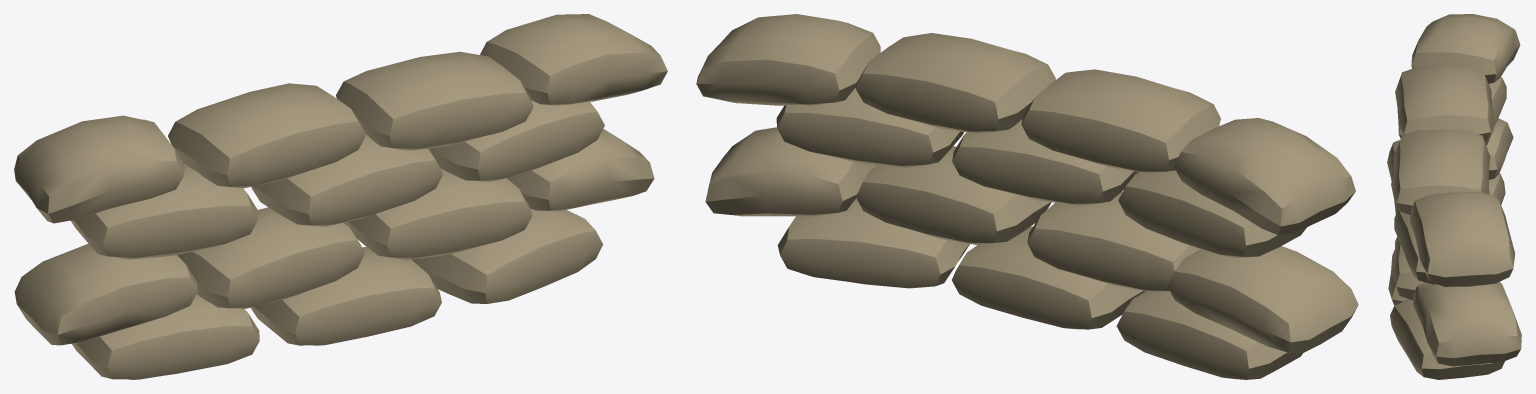
The model's file is SackTrench.fbx.
3 renders of one model, left to right at view 1: azimuth 30°, elevation 25°; view 2: azimuth 150°, elevation 25°; view 3: azimuth 270°, elevation 25°, orthographic. The views are drawn at different scales.
Parts seen in each view (by area): view 1: SackTrench; view 2: SackTrench; view 3: SackTrench.
Part boxes in pixels (x1,y1,x2,y2): SackTrench: (14, 14, 667, 379); SackTrench: (696, 14, 1358, 379); SackTrench: (1387, 14, 1521, 379).
Bounding box in the file's own units: 314 × 119 × 75.43.
